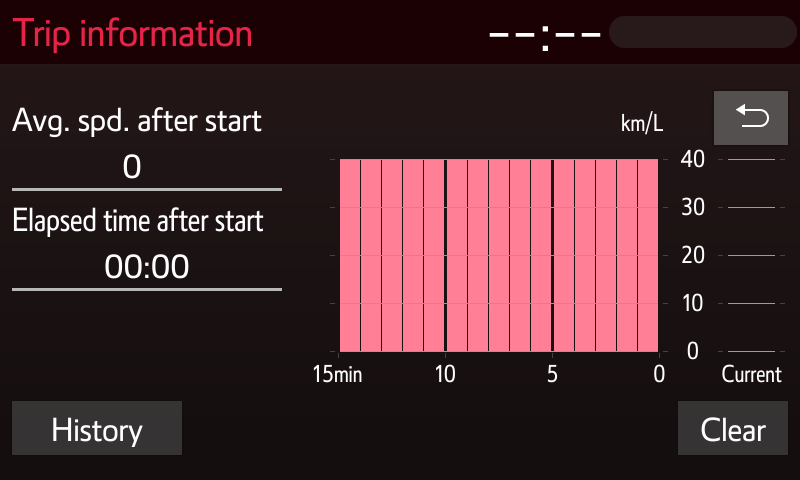touchPart: (8, 398, 188, 461), (671, 396, 795, 458), (708, 88, 794, 145)
untouchPart: (328, 106, 703, 387), (12, 100, 290, 303), (488, 14, 793, 55), (17, 9, 254, 47)
